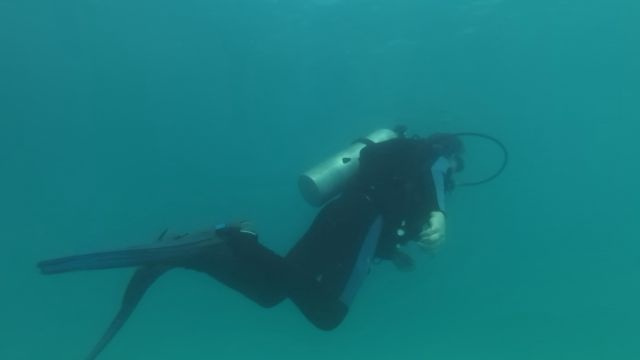Diver: (32, 112, 520, 357)
Hand: (411, 205, 454, 254)
